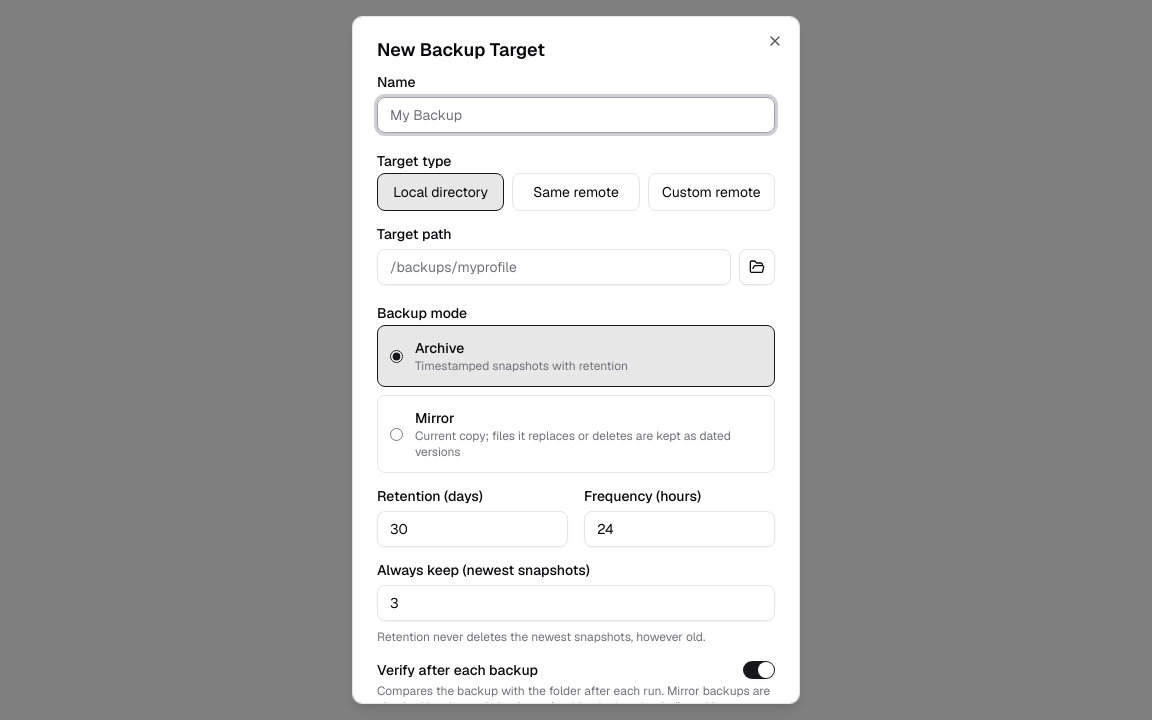
Test: BackupTargetForm remote paths › same remote: prefills the profile remote and explains the remote:path format
This screenshot has width=1152, height=720.
// Wait for the profile, then switch the type.
Click the radio button labelled "Same remote" at (576, 192), box [512,173,640,211]
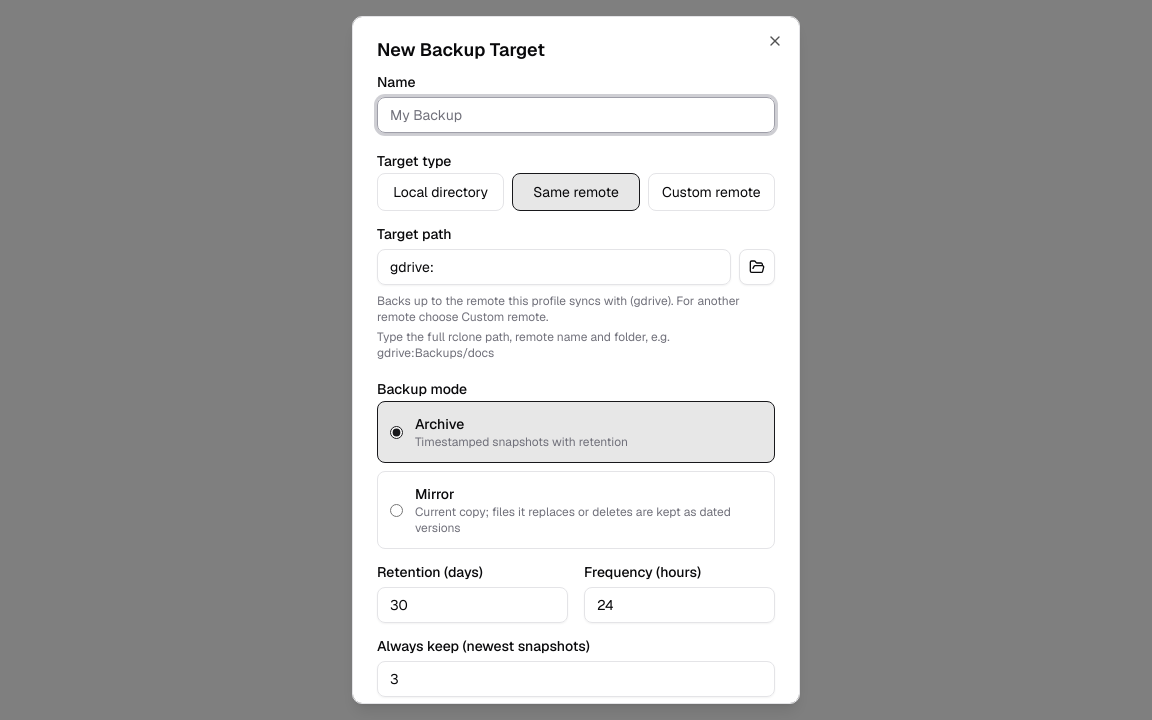
Now the field labelled "Target path" holds "gdrive:", box [377,249,731,285]
Now the dialog shows "Backs up to the remote this profile syncs with (gdrive)", box [377,293,740,325]
Now the dialog shows "Type the full rclone path, remote name and folder, e.g. gdrive:Backups/docs", box [377,329,670,361]
